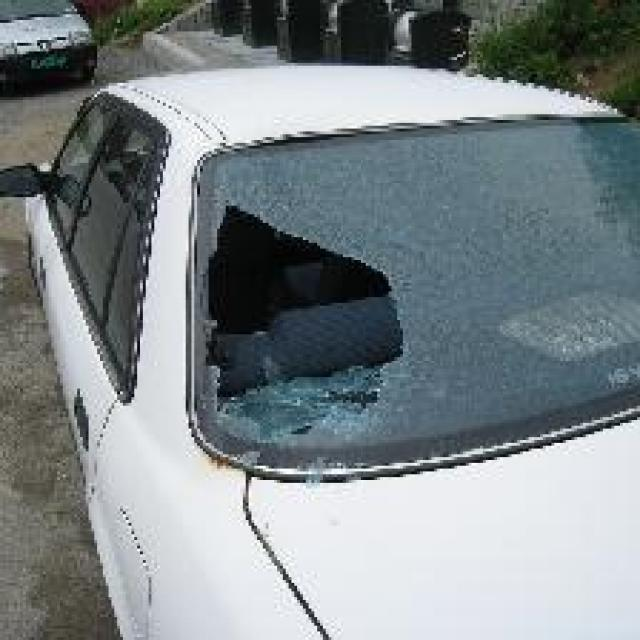damaged: (200, 203, 426, 486)
